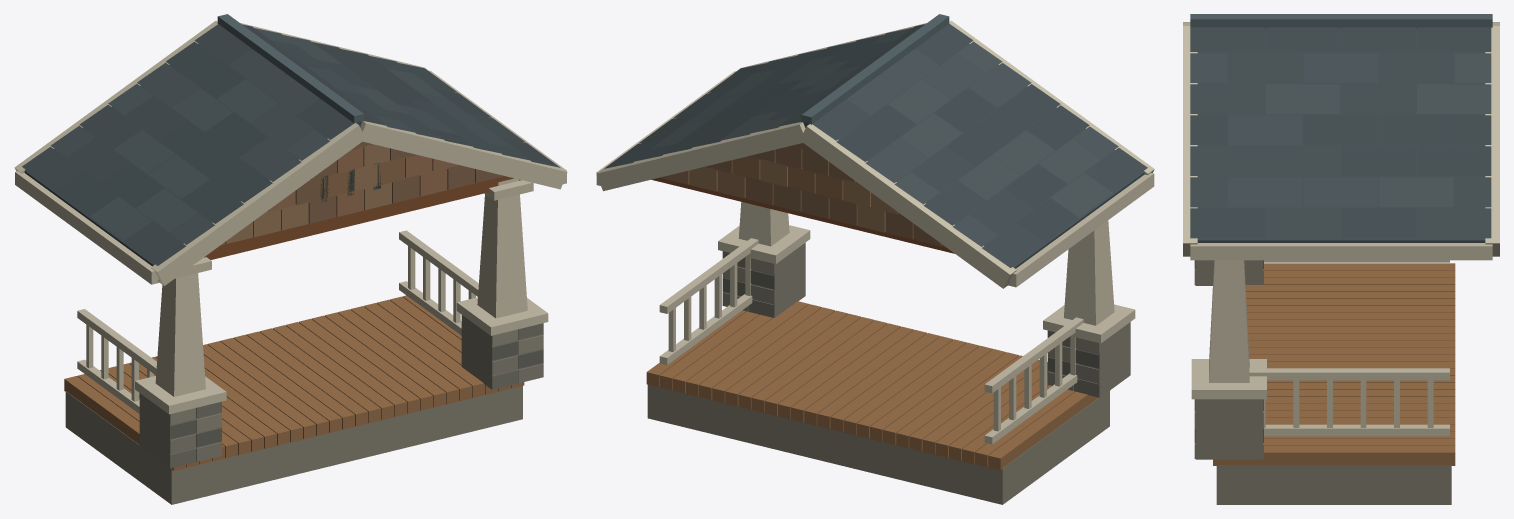
File: gable_porch.glb
The picture shows the model from 3 angles, left to right: view 1: azimuth 30°, elevation 25°; view 2: azimuth 150°, elevation 25°; view 3: azimuth 270°, elevation 25°; orthographic projection. The views are drawn at different scales.
Parts seen in each view (by area): view 1: KitGablePorchDetails, KitGablePorchRoofFinish; view 2: KitGablePorchDetails, KitGablePorchRoofFinish; view 3: KitGablePorchDetails, KitGablePorchRoofFinish.
Boxes of the visible parts, x1,y1,x2,y2 form: KitGablePorchDetails: [14, 20, 567, 504]; KitGablePorchRoofFinish: [22, 14, 559, 282]; KitGablePorchDetails: [596, 20, 1154, 504]; KitGablePorchRoofFinish: [604, 14, 1147, 283]; KitGablePorchDetails: [1183, 22, 1499, 504]; KitGablePorchRoofFinish: [1190, 14, 1492, 242].
Size of the model in its own units: 5.06 by 4.14 by 3.02.
